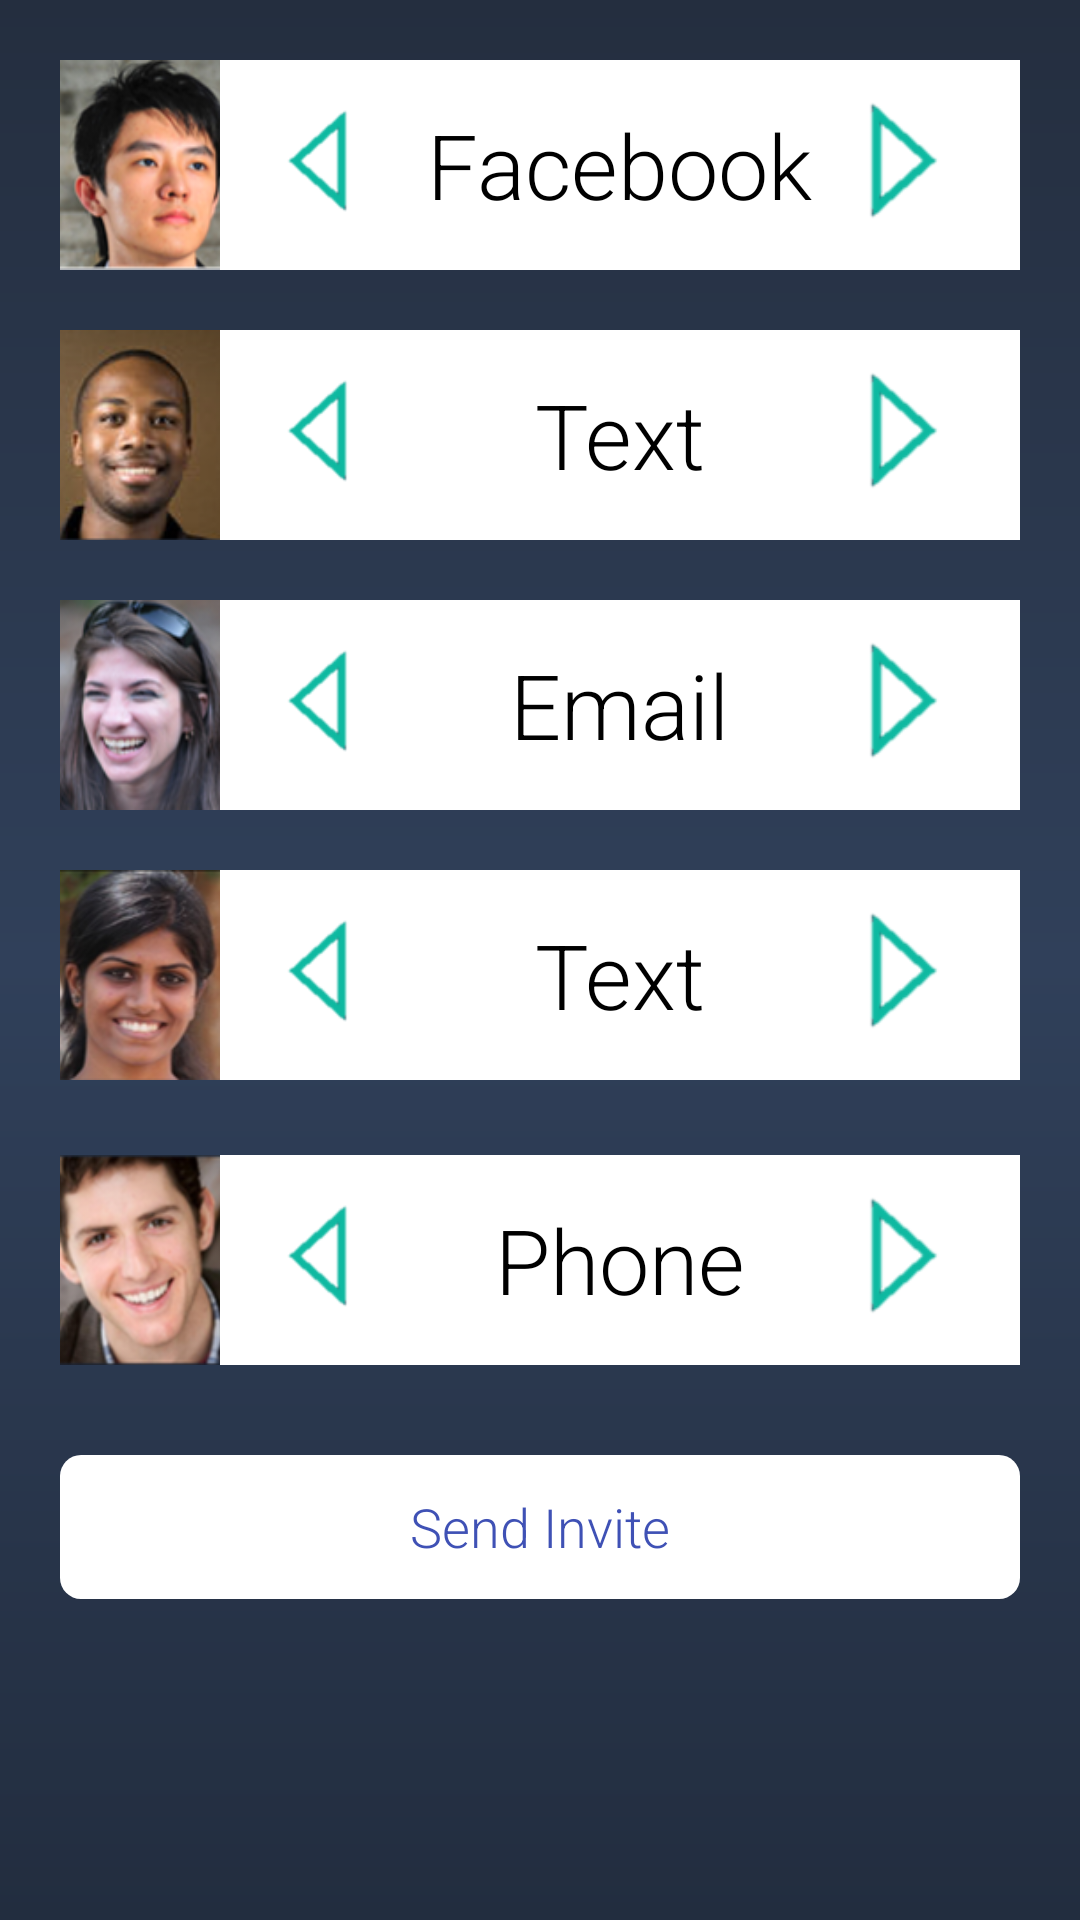

Icon click points for this 1080w x 1920h phone screenshot, format (x=x, y=y):
Left Arrow: (x=325, y=165), (x=325, y=435), (x=325, y=705), (x=325, y=975), (x=325, y=1260)
profpicture: (x=140, y=165), (x=140, y=435), (x=140, y=705), (x=140, y=975), (x=140, y=1260)
Right Arrow: (x=915, y=165), (x=915, y=435), (x=915, y=705), (x=915, y=975), (x=915, y=1260)
